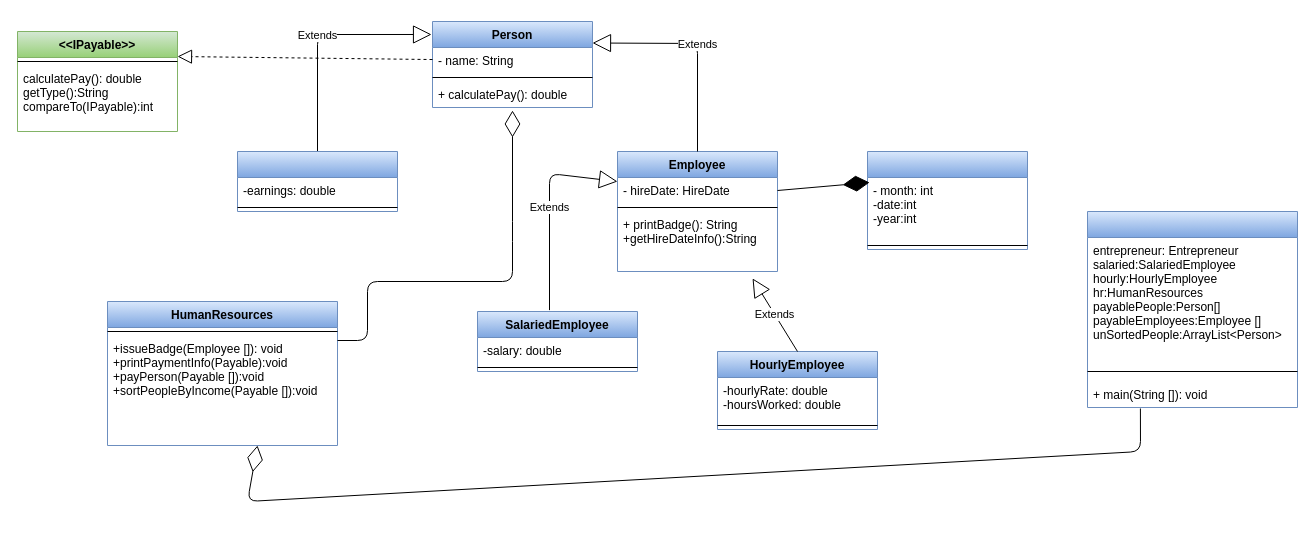
This 1315x546 diagram has some shape labels left out. The box of each missing label's shape, as (x1, y1, x2, y2) in pixels:
CheckCashingPlace: (1086, 210, 1298, 408)
Entrepreneur: (236, 150, 398, 212)
HireDate: (866, 150, 1028, 250)
